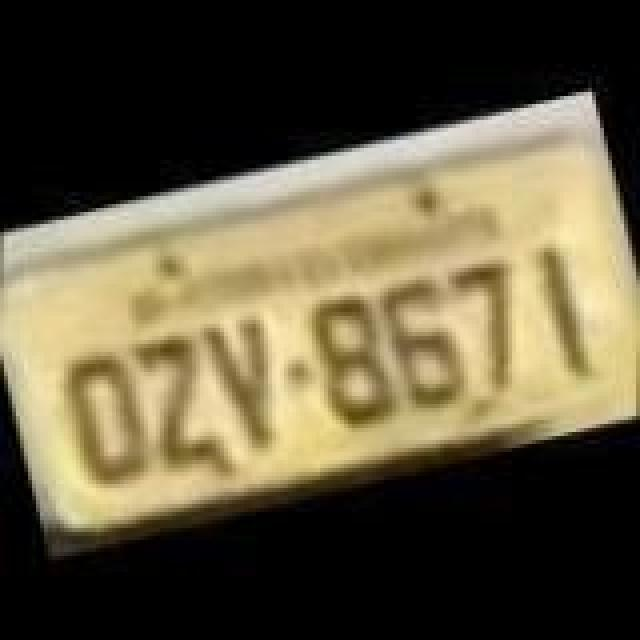1: (520, 232, 600, 376)
6: (374, 268, 474, 412)
7: (438, 250, 538, 398)
8: (302, 288, 402, 428)
O: (50, 340, 162, 484)
V: (192, 308, 292, 452)
Z: (122, 328, 226, 472)
